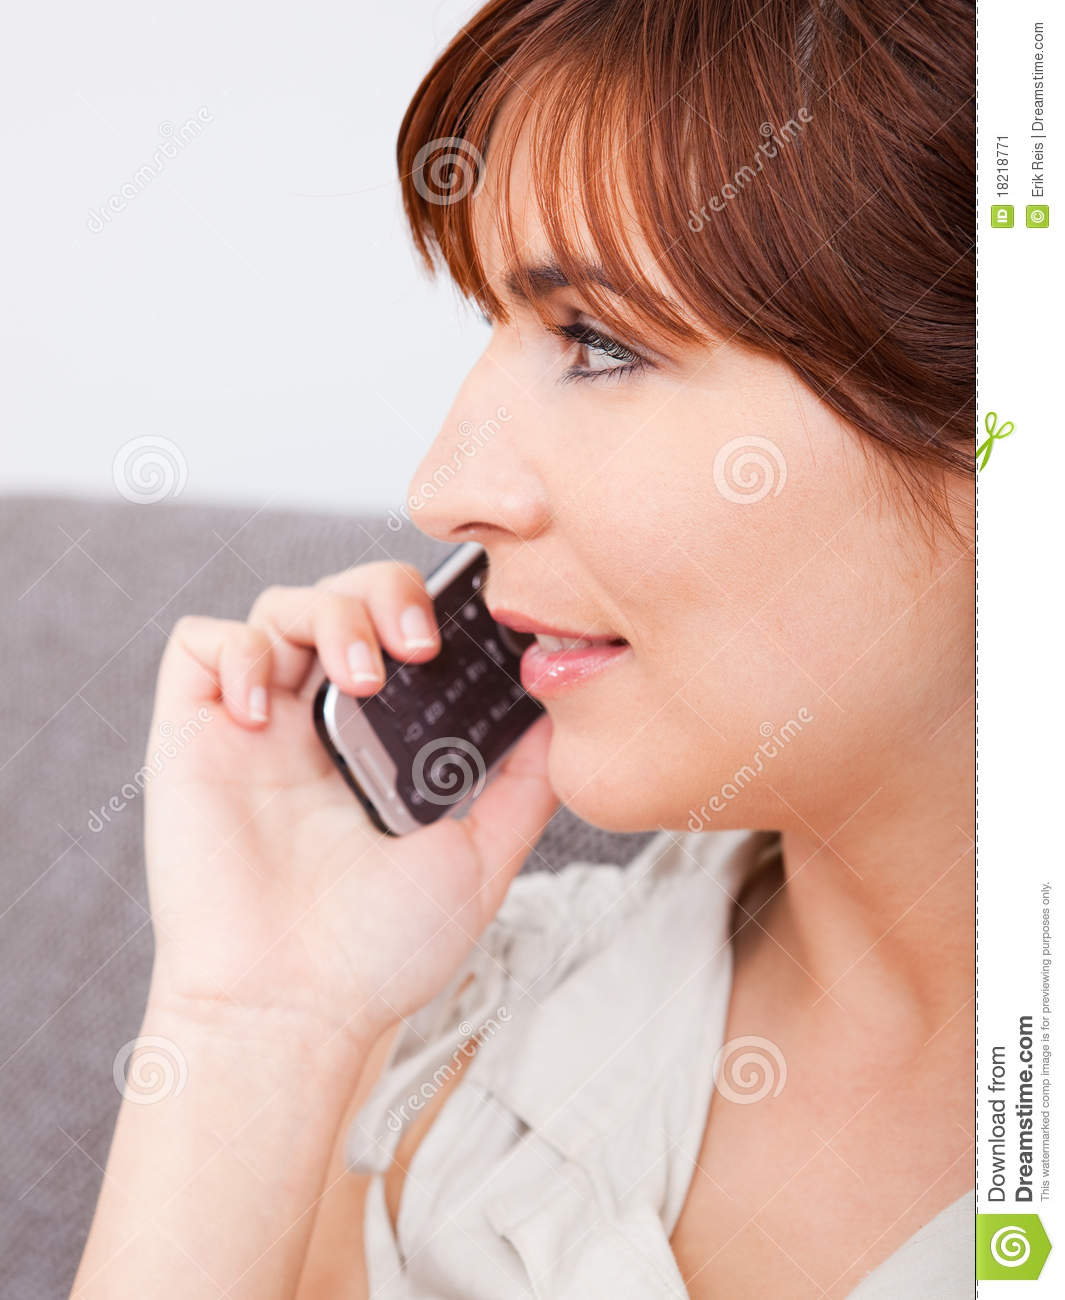phone: (318, 550, 521, 847)
talk: (133, 236, 713, 1102)
